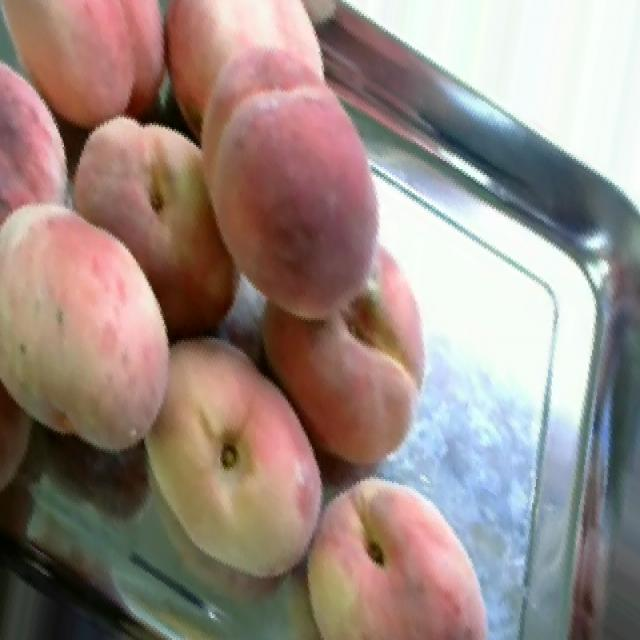Fruit: (141, 2, 400, 334), (111, 306, 352, 608), (0, 175, 209, 479), (228, 217, 444, 487), (280, 461, 508, 640), (1, 0, 167, 151)
